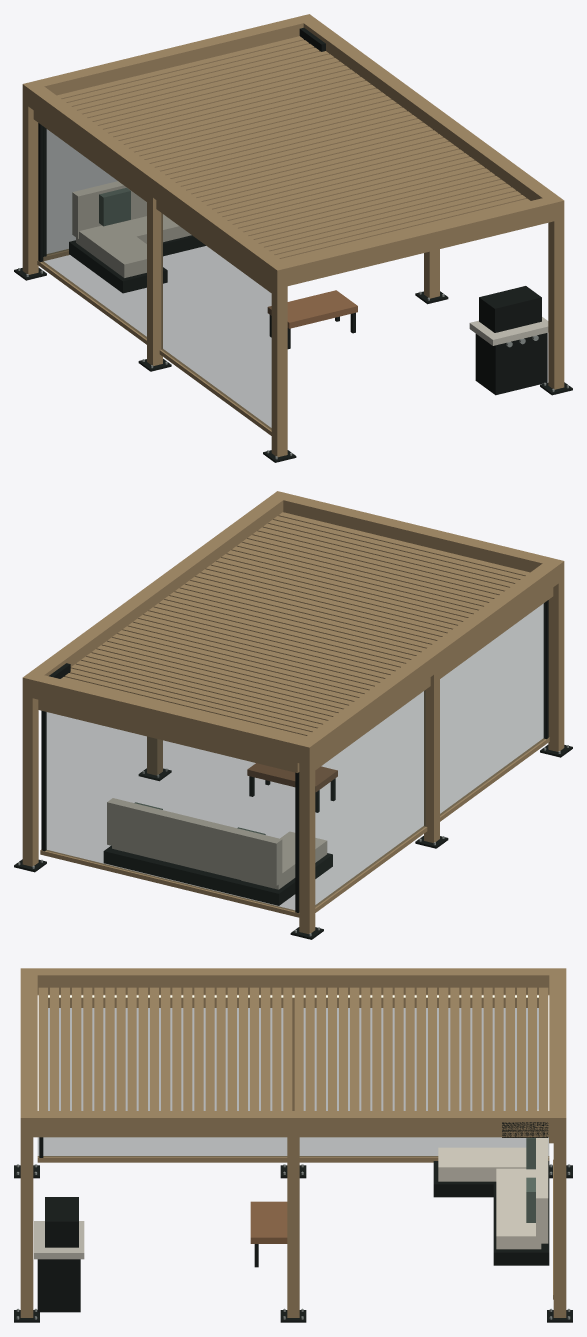
The model's file is coordinatez-axis-13x20-sand.glb.
The picture shows the model from 3 angles, top to bottom: view 1: azimuth 30°, elevation 25°; view 2: azimuth 150°, elevation 25°; view 3: azimuth 270°, elevation 25°; orthographic projection. The views are drawn at different scales.
Visible parts, largest first — view 1: Left motorized wall, Structural post (×5), Left beam, Front motor beam, Right beam, Rear drainage beam, Rear motorized wall, BBQ cabinet, Chaise cushion, BBQ hood, Left wall cassette, Left wall bottom rail (+52 smaller); view 2: Rear motorized wall, Left motorized wall, Structural post (×5), Sofa back, Left beam, Rear drainage beam, Right beam, Front motor beam, Sofa base, Rear wall cassette, Left wall cassette, Left wall bottom rail (+49 smaller); view 3: Left motorized wall, Right beam, Left beam, Structural post (×3), Front motor beam, Rear drainage beam, Sofa seat, Left wall bottom rail, Chaise cushion, BBQ cabinet, BBQ hood, Coffee table top (+53 smaller).
Boxes of the visible parts, x1,y1,x2,y2 form: Left motorized wall: [41, 125, 271, 429]; Structural post (×5): [22, 102, 564, 457]; Left beam: [22, 81, 291, 288]; Front motor beam: [269, 195, 564, 288]; Right beam: [296, 16, 564, 221]; Rear drainage beam: [23, 14, 316, 105]; Rear motorized wall: [47, 130, 116, 254]; BBQ cabinet: [475, 333, 547, 395]; Chaise cushion: [76, 223, 146, 277]; BBQ hood: [479, 286, 541, 332]; Left wall cassette: [33, 110, 271, 292]; Left wall bottom rail: [37, 260, 271, 435]; Rear motorized wall: [41, 711, 294, 911]; Left motorized wall: [315, 602, 545, 906]; Structural post (×5): [22, 579, 564, 934]; Sofa back: [107, 798, 282, 885]; Left beam: [295, 558, 563, 765]; Rear drainage beam: [22, 672, 317, 764]; Right beam: [22, 492, 290, 698]; Front motor beam: [270, 491, 564, 580]; Sofa base: [103, 846, 295, 905]; Rear wall cassette: [38, 699, 299, 772]; Left wall cassette: [315, 587, 553, 769]; Left wall bottom rail: [315, 737, 549, 912]; Left motorized wall: [38, 1008, 548, 1156]; Right beam: [20, 1111, 566, 1137]; Left beam: [21, 968, 565, 994]; Structural post (×3): [20, 1137, 566, 1317]; Front motor beam: [20, 968, 37, 1137]; Rear drainage beam: [549, 968, 566, 1137]; Sofa seat: [496, 1168, 541, 1249]; Left wall bottom rail: [37, 1156, 549, 1162]; Chaise cushion: [438, 1147, 526, 1181]; BBQ cabinet: [37, 1259, 80, 1312]; BBQ hood: [45, 1197, 78, 1247]; Coffee table top: [250, 1201, 287, 1243].
Size of the model in its own units: 4.11 by 2.49 by 6.25.
